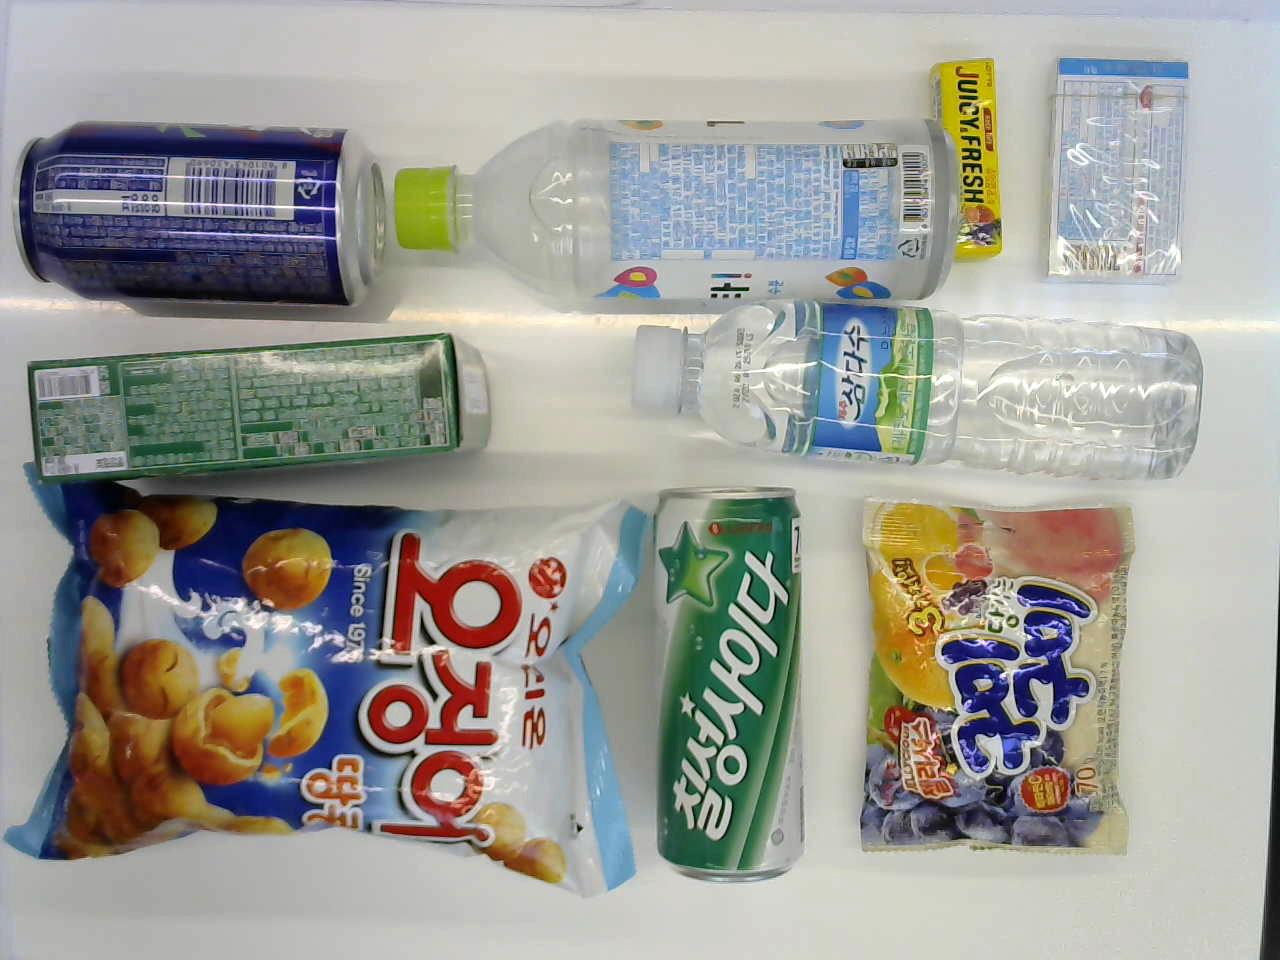ID_gum: (1040, 37, 1195, 287)
cidar: (647, 486, 824, 899)
couque_coffee: (7, 331, 510, 481)
gumi_gumi: (851, 494, 1140, 869)
juicyfresh: (929, 43, 1011, 257)
samdasu: (623, 296, 1198, 493)
squid_peanut: (26, 473, 632, 904)
toreta: (390, 111, 948, 301)
welchs: (15, 116, 383, 323)
